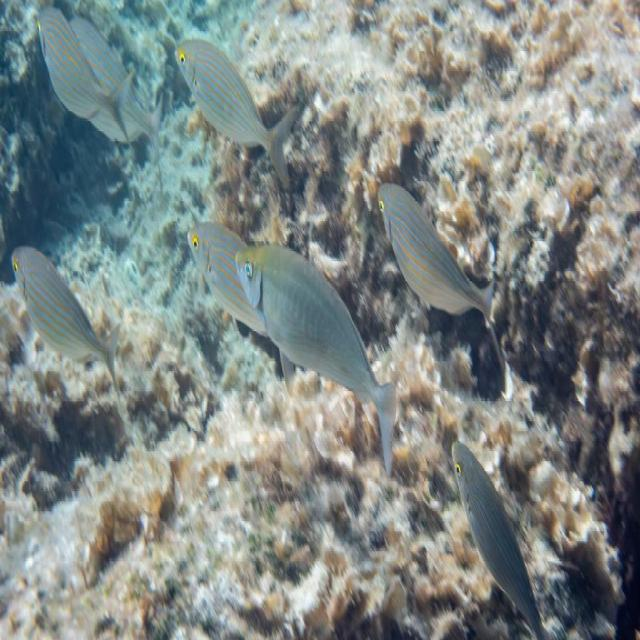Sokar Baligi: (372, 157, 515, 376), (7, 223, 129, 409), (171, 25, 302, 196)
